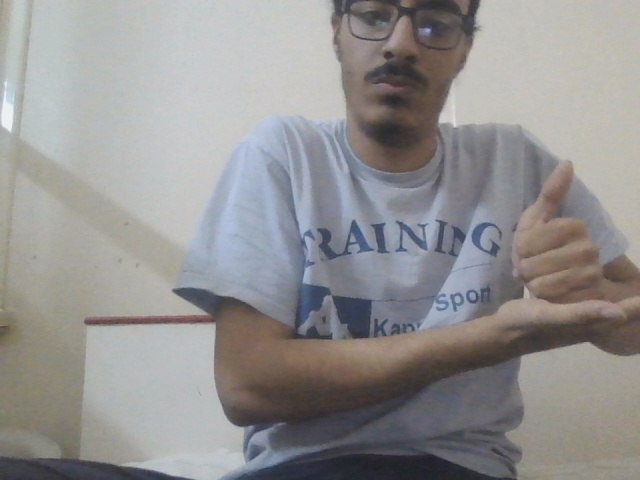Help: (489, 156, 640, 361)
